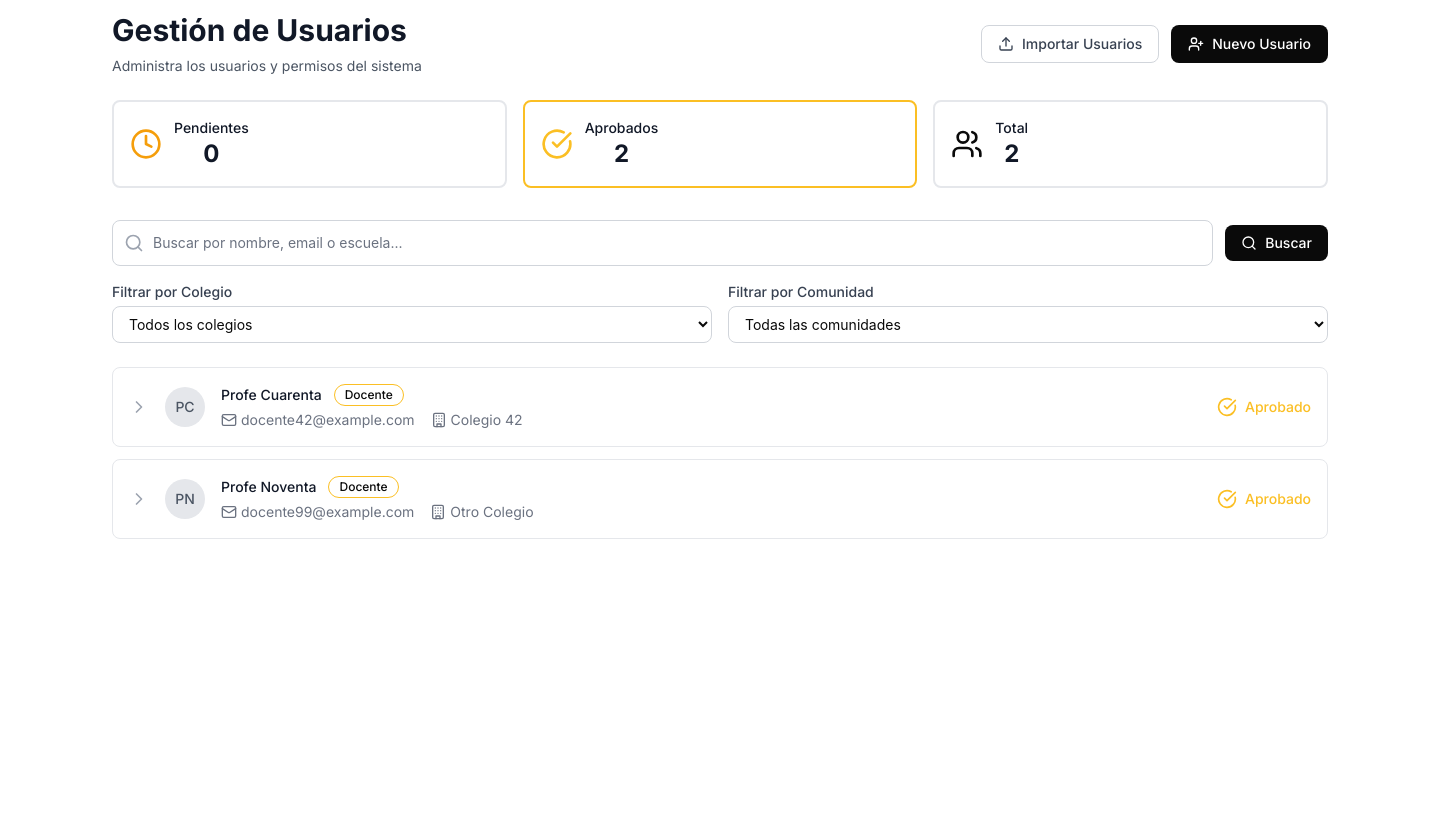
UnifiedUserManagement — ED-scoped props › hideExpenseAccess: omits the "Reportes de gastos" block from the approved user actions
// Expand the approved user.
Click the heading "Profe Cuarenta": point(271, 395) [221,385,322,405]
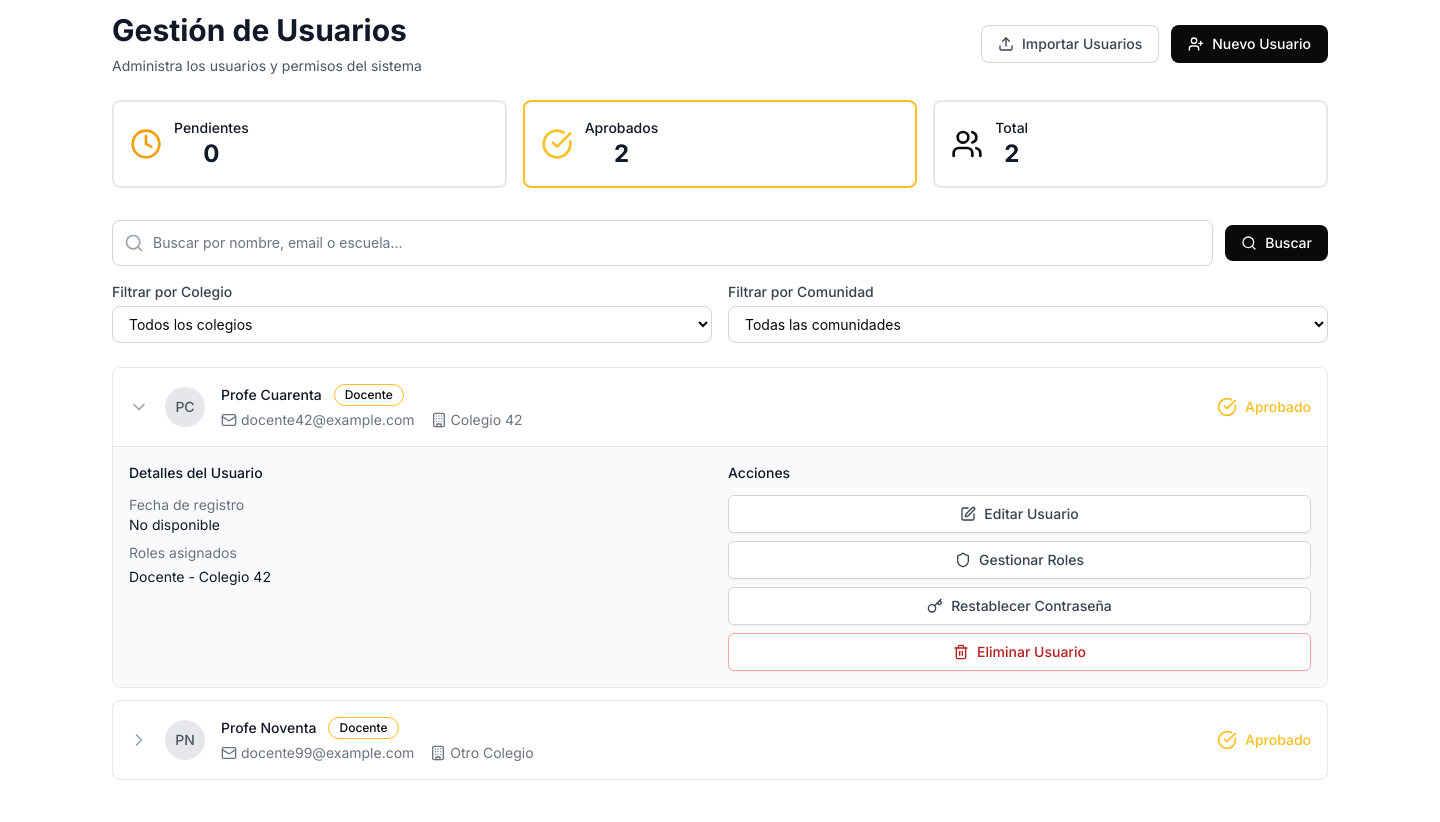
Check: the button "Editar Usuario" is shown, box [728,495,1311,533]
Check: the button "Gestionar Roles" is shown, box [728,541,1311,579]
